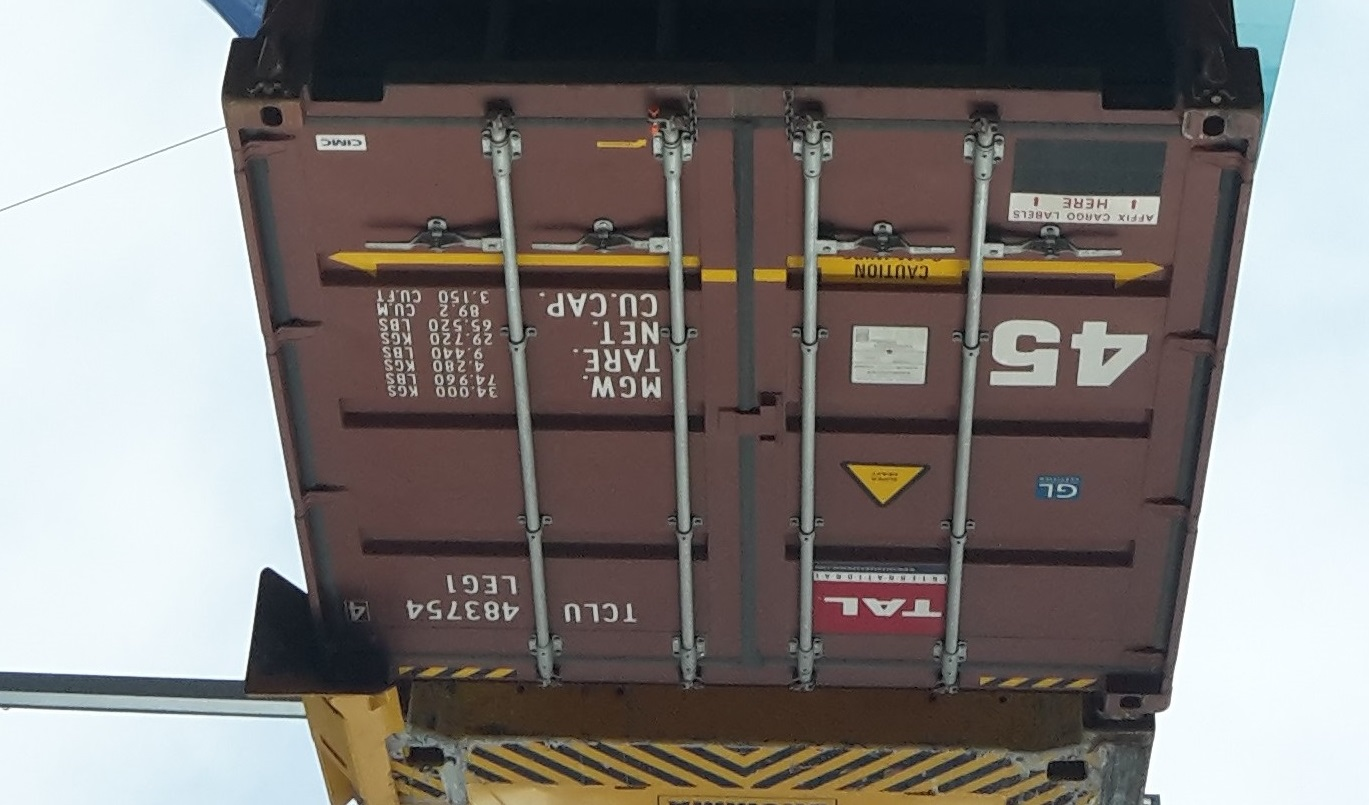container_door: (210, 75, 1264, 708)
